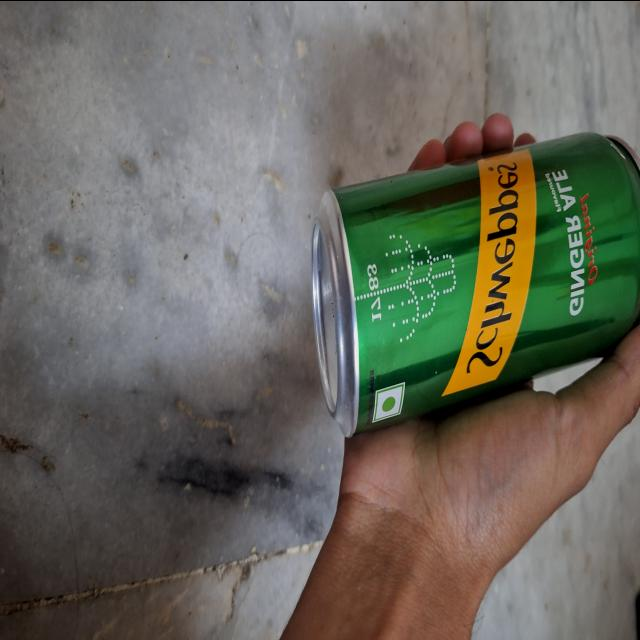Schweppes: (326, 169, 640, 425)
